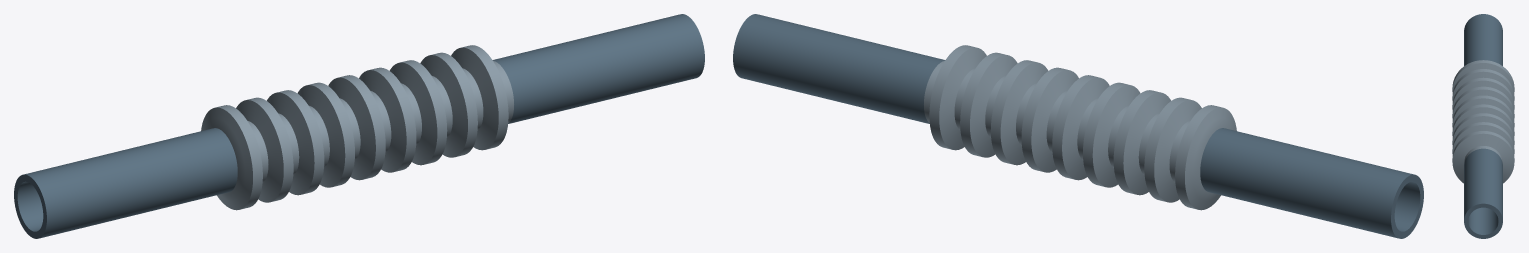
File: silf-dn20-L310-D26_9.glb
The picture shows the model from 3 angles, left to right: view 1: azimuth 30°, elevation 25°; view 2: azimuth 150°, elevation 25°; view 3: azimuth 270°, elevation 25°; orthographic projection. The views are drawn at different scales.
Parts seen in each view (by area): view 1: prokladka_silfon_1, patrubok_1, patrubok_2; view 2: prokladka_silfon_1, patrubok_1, patrubok_2; view 3: prokladka_silfon_1, patrubok_2, patrubok_1.
Boxes of the visible parts, x1=… form: prokladka_silfon_1: x1=201, y1=45, x2=513, y2=210; patrubok_1: x1=14, y1=128, x2=237, y2=238; patrubok_2: x1=492, y1=14, x2=704, y2=123; prokladka_silfon_1: x1=924, y1=45, x2=1236, y2=210; patrubok_1: x1=1200, y1=128, x2=1423, y2=238; patrubok_2: x1=733, y1=14, x2=945, y2=123; prokladka_silfon_1: x1=1452, y1=60, x2=1514, y2=183; patrubok_2: x1=1464, y1=148, x2=1502, y2=238; patrubok_1: x1=1464, y1=14, x2=1502, y2=65.
Size of the model in its own units: 310 by 42.9 by 42.9.
